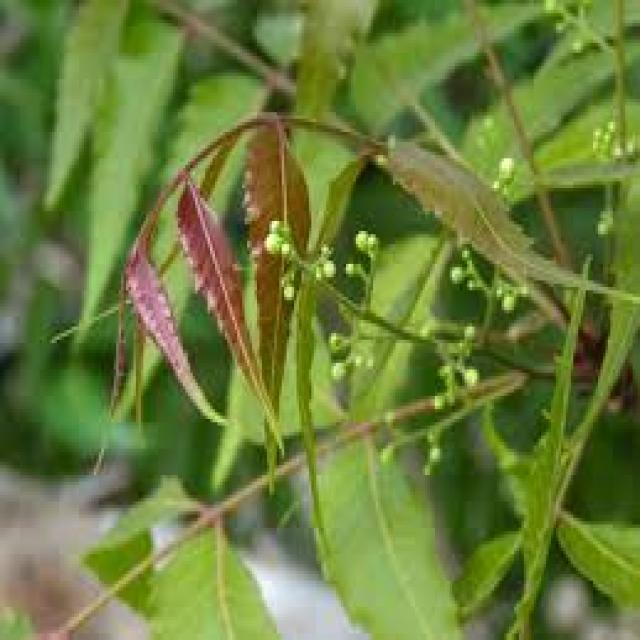Neem-Tree: (76, 99, 640, 636)
